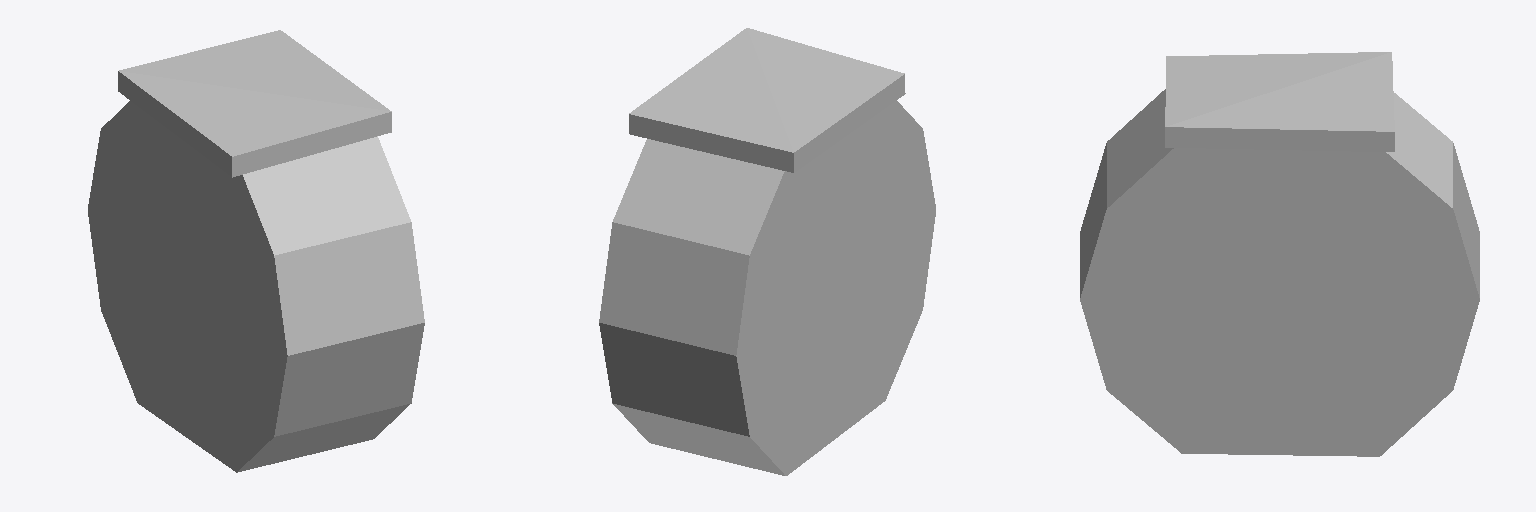
File: fish.obj
The picture shows the model from 3 angles: view 1: azimuth 30°, elevation 25°; view 2: azimuth 150°, elevation 25°; view 3: azimuth 270°, elevation 25°; orthographic projection.
Visible parts, largest first — view 1: group[number redacted]; view 2: group[number redacted]; view 3: group[number redacted].
Part boxes in pixels (x1,y1,x2,y2): group[number redacted]: (88, 30, 424, 472); group[number redacted]: (599, 28, 935, 475); group[number redacted]: (1080, 52, 1479, 456).
Size of the model in its own units: 0.2507 by 0.4886 by 0.53.